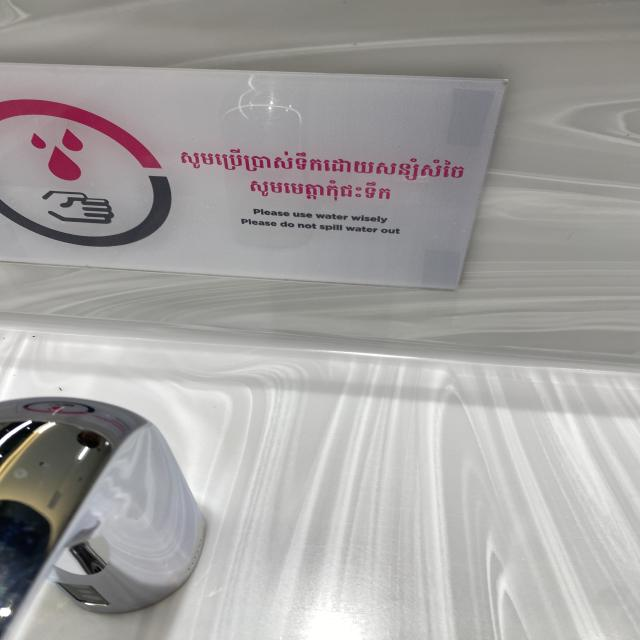Yolov11kh: (178, 143, 467, 187), (248, 177, 396, 207)
